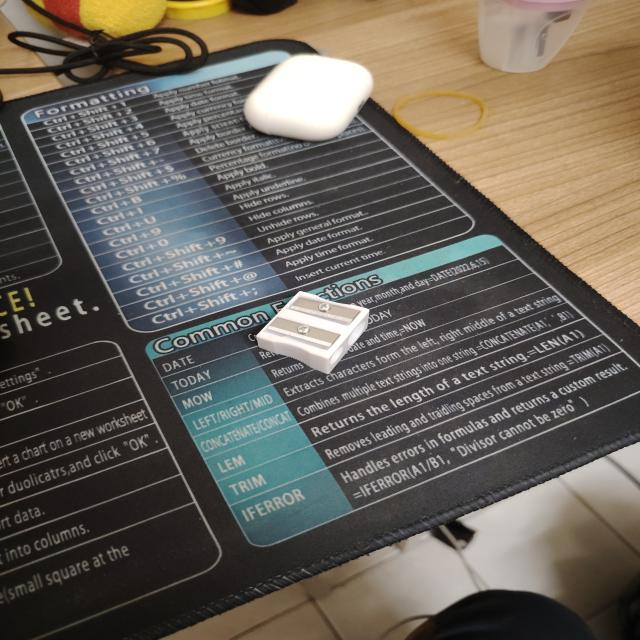sharpener: (256, 292, 368, 373), (478, 0, 587, 73)
